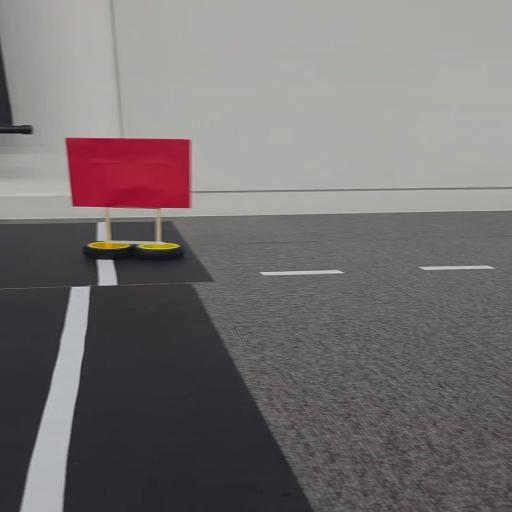Sign_A: (54, 130, 206, 266)
